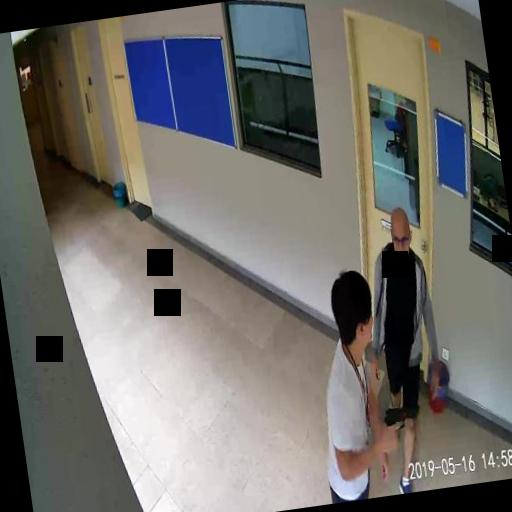Handgun: (382, 402, 422, 446)
